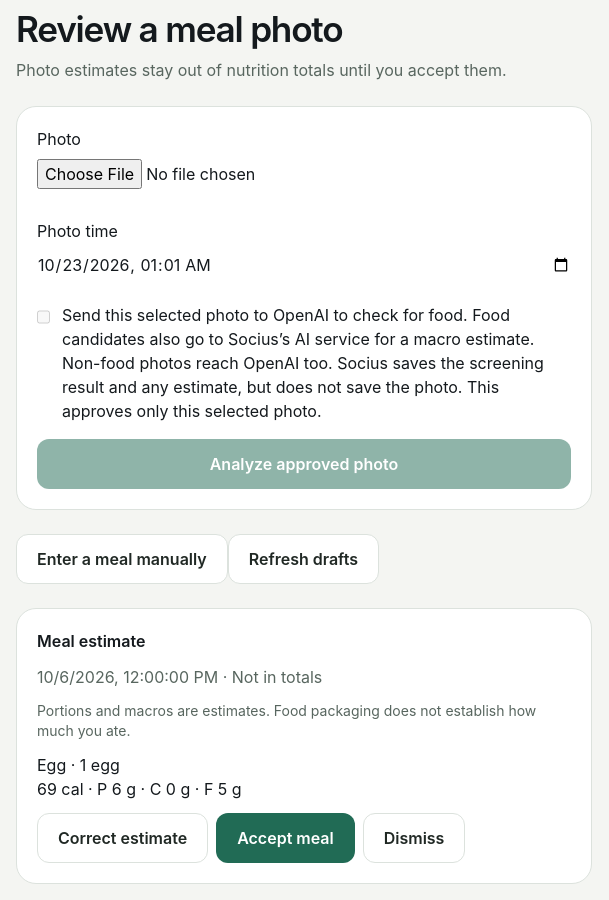
Scenario: photo review UI › reloads a pending draft and saves corrections before accepting its latest revision
The width and height of the screenshot is (609, 900).
Expected: the text "Egg · 1 egg69 cal · P 6 g · C 0 g · F 5 g" is shown, [37,755,242,799]
Click the button "Correct estimate".
click(123, 838)  # box [37,813,208,863]
(page scrolled)
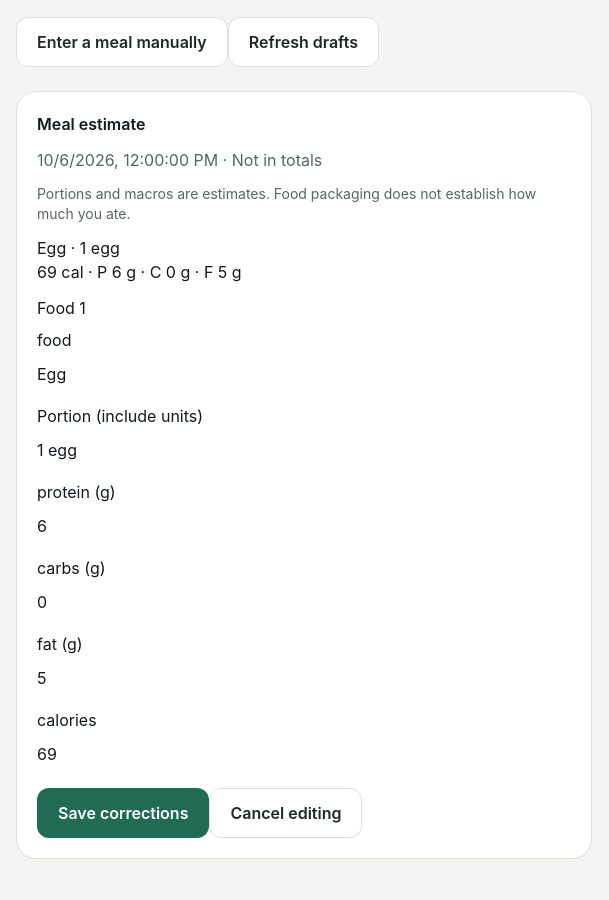
Replace the text in the field labelled "Portion (include units)" with "2 eggs" at {"x": 304, "y": 450}, box [37,428,571,472]
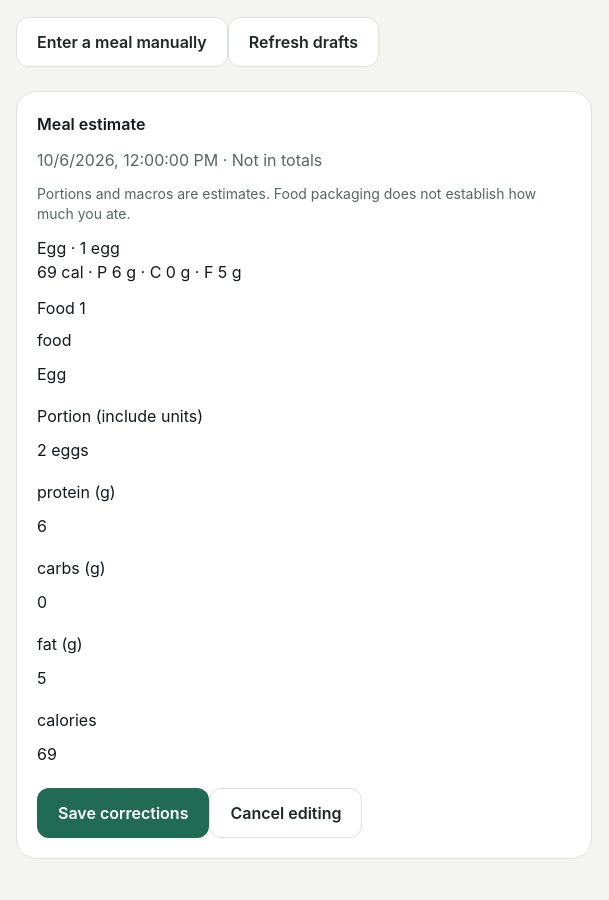
Replace the text in the number field labelled "protein (g)" with "12" at {"x": 304, "y": 526}, box [37,504,571,548]
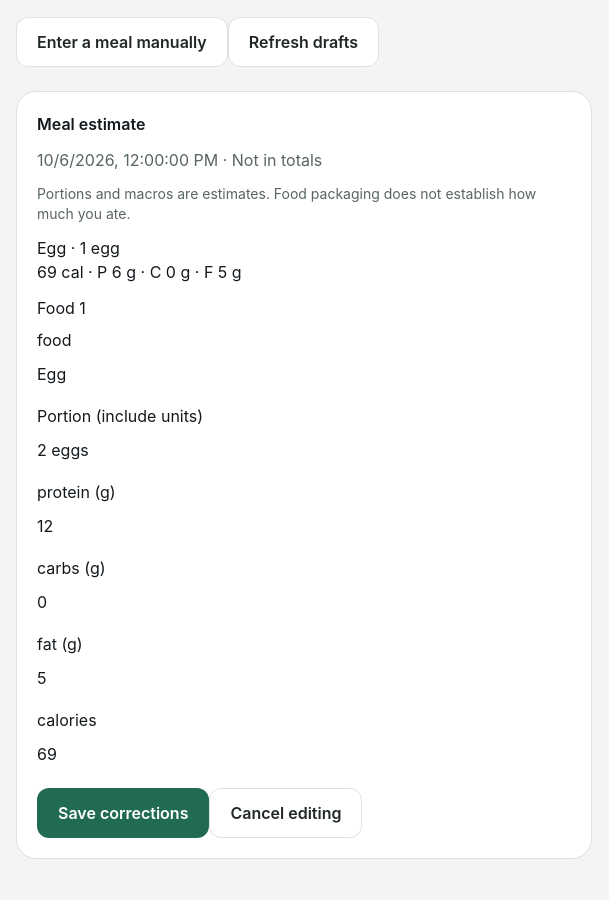
Click the button "Save corrections".
click(123, 813)  # box [37,788,209,838]
(page scrolled)
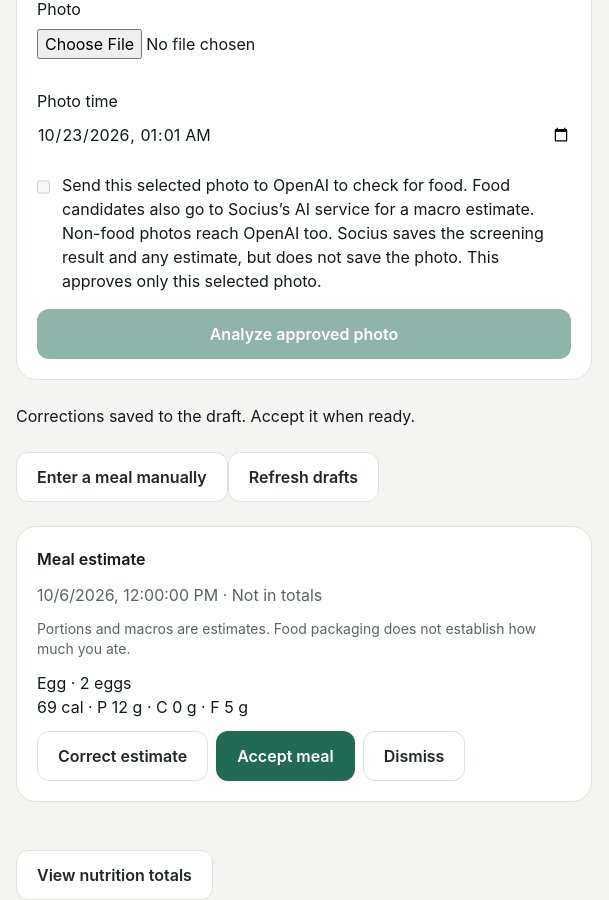
Now the text "Egg · 2 eggs69 cal · P 12 g · C 0 g · F 5 g" is shown, box [37,673,248,717]
Click the button "Accept meal".
click(285, 756)  # box [216,731,355,781]
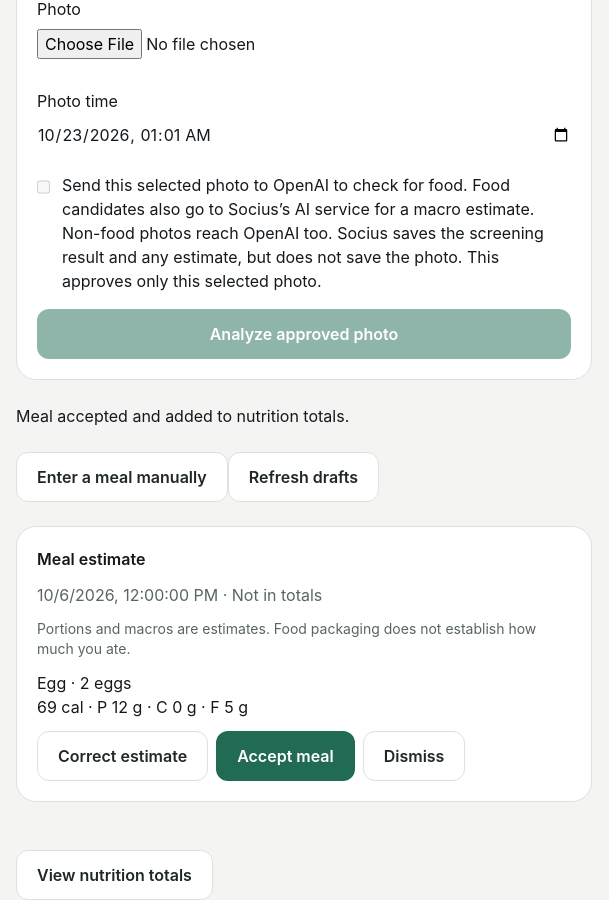
Now the text "Meal accepted and added to nutrition totals." is shown, box [16,406,349,426]
